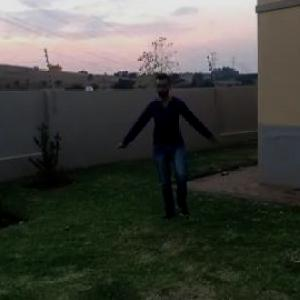land: (118, 71, 222, 233)
